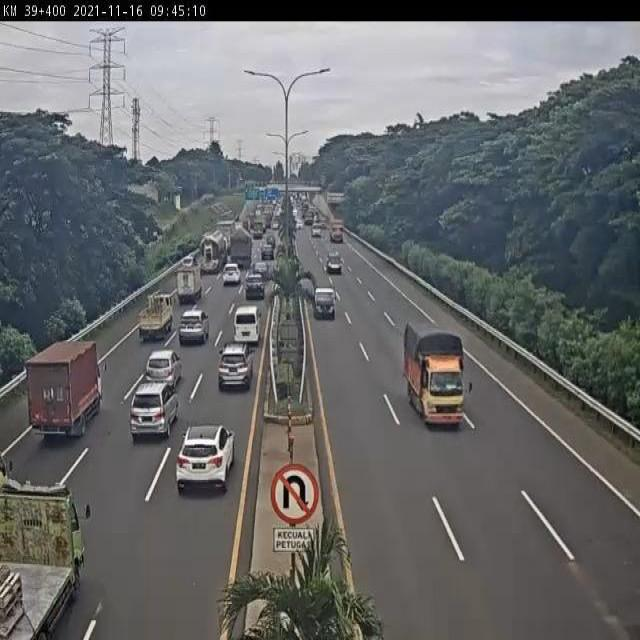car: (176, 424, 232, 492), (130, 388, 177, 440), (218, 347, 251, 392), (145, 349, 179, 387), (179, 309, 208, 343), (311, 284, 336, 321), (242, 281, 263, 307), (249, 262, 271, 286), (221, 264, 242, 289), (326, 251, 344, 273)
small bus: (404, 322, 467, 430), (233, 308, 260, 348)
small truck: (138, 292, 174, 339), (172, 267, 200, 305)
truck-l-: (225, 231, 252, 273)
truck-m-: (27, 342, 102, 434)
truck-xl-: (195, 234, 224, 278)
